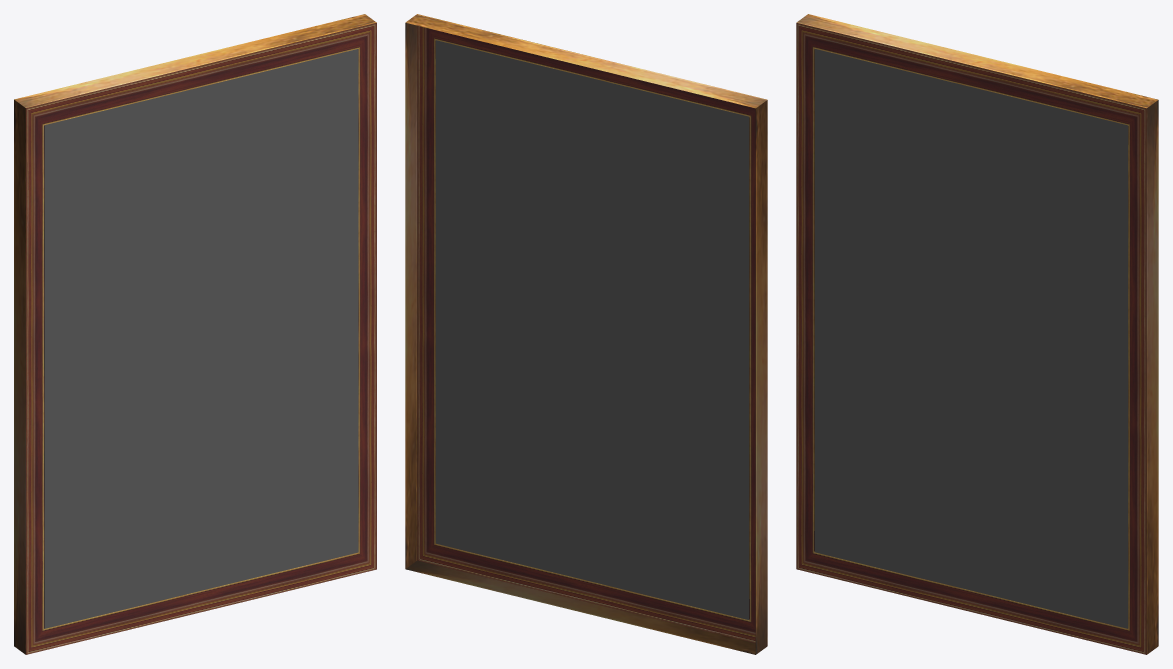
The model's file is art_b.fbx.
3 renders of one model, left to right at view 1: azimuth 30°, elevation 25°; view 2: azimuth 150°, elevation 25°; view 3: azimuth 330°, elevation 25°, orthographic.
Parts seen in each view (by area): view 1: art_a; view 2: art_a; view 3: art_a.
Part boxes in pixels (left/top/right/bottom): art_a: left=14, top=14, right=376, bottom=654; art_a: left=405, top=14, right=767, bottom=654; art_a: left=796, top=14, right=1158, bottom=654.
Bounding box in the file's own units: 255 × 380 × 15.26.
